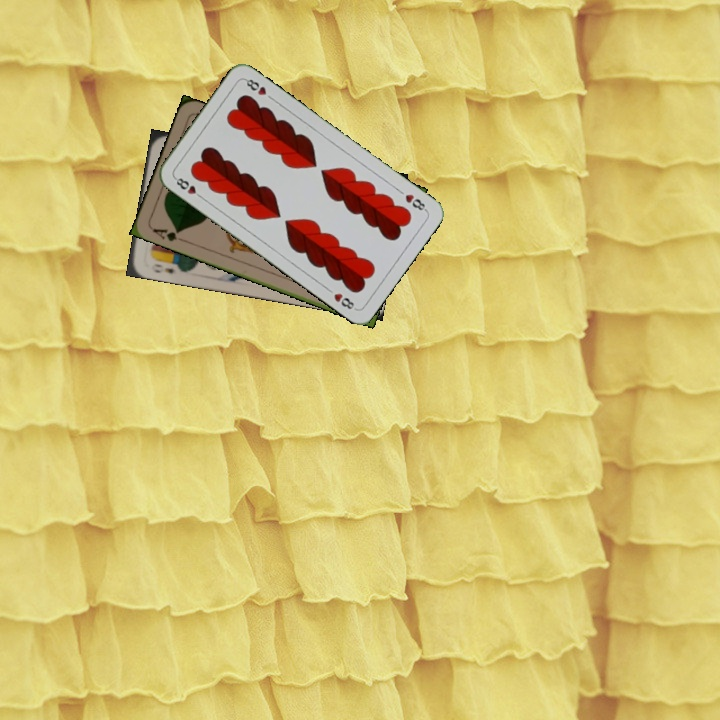EO: (150, 260, 178, 276)
GA: (148, 224, 187, 244)
H8: (170, 173, 206, 201), (401, 190, 430, 214)
